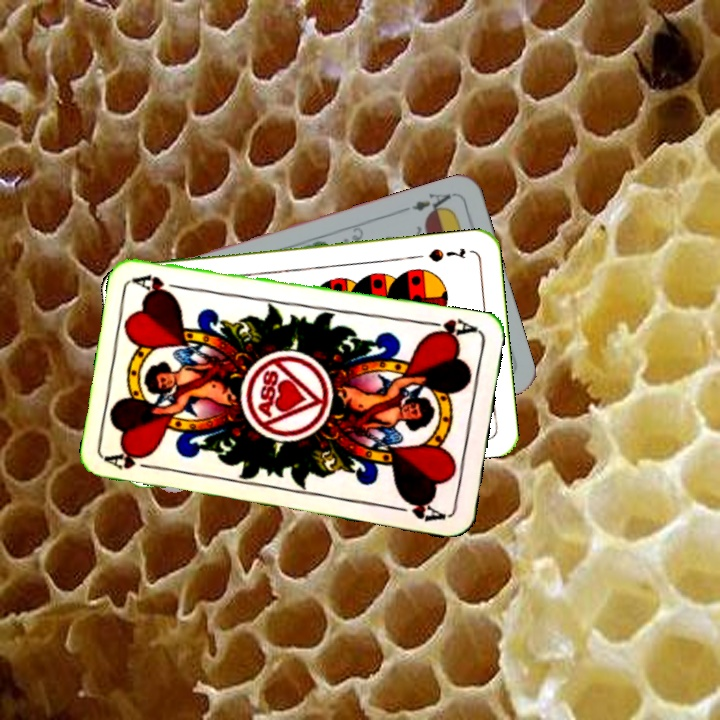EA: (398, 189, 456, 219)
HA: (420, 315, 479, 342), (103, 448, 163, 473)
S7: (425, 243, 468, 264)
